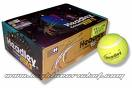tennis ball: (97, 33, 129, 66)
